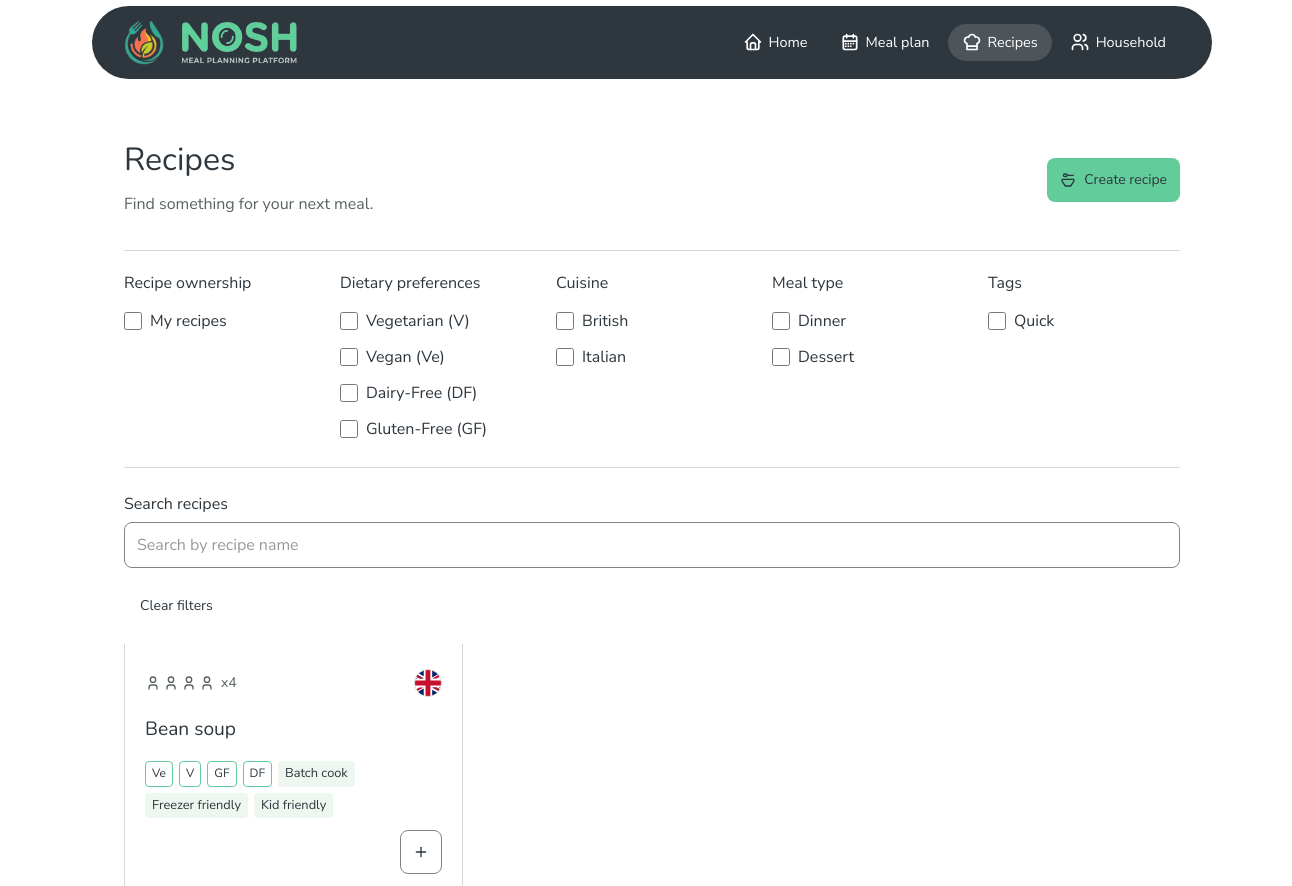
it: filters recipes to the current user's recipes
The image size is (1292, 886).
Expected: the link "Bean soup" is shown, 145,716 -> 236,742
Click the checkbox labelled "My recipes" at (133, 321), box 124,312 -> 142,330
(page scrolled)
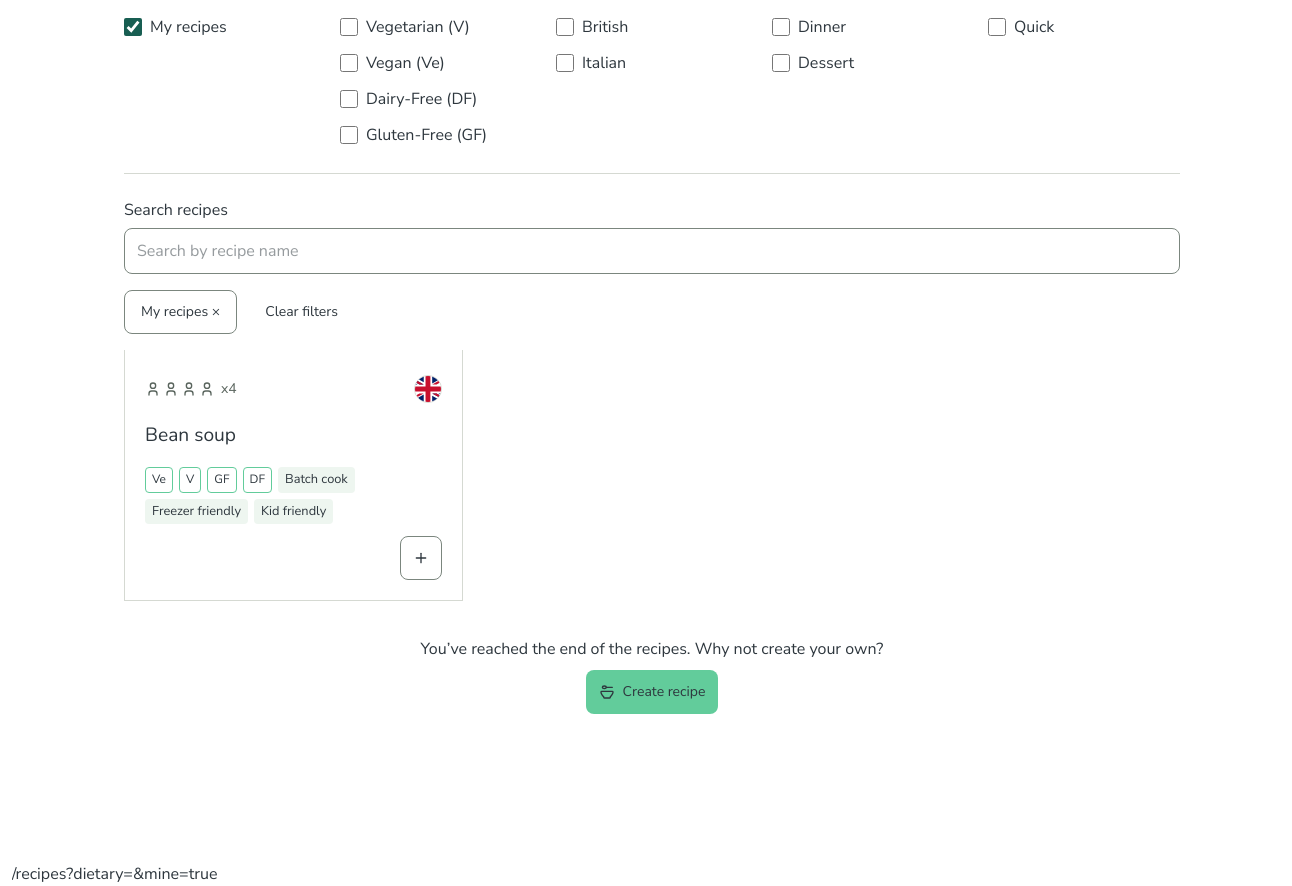
Expected: the text with test id "location" shows "mine=true", 66,863 -> 218,885
